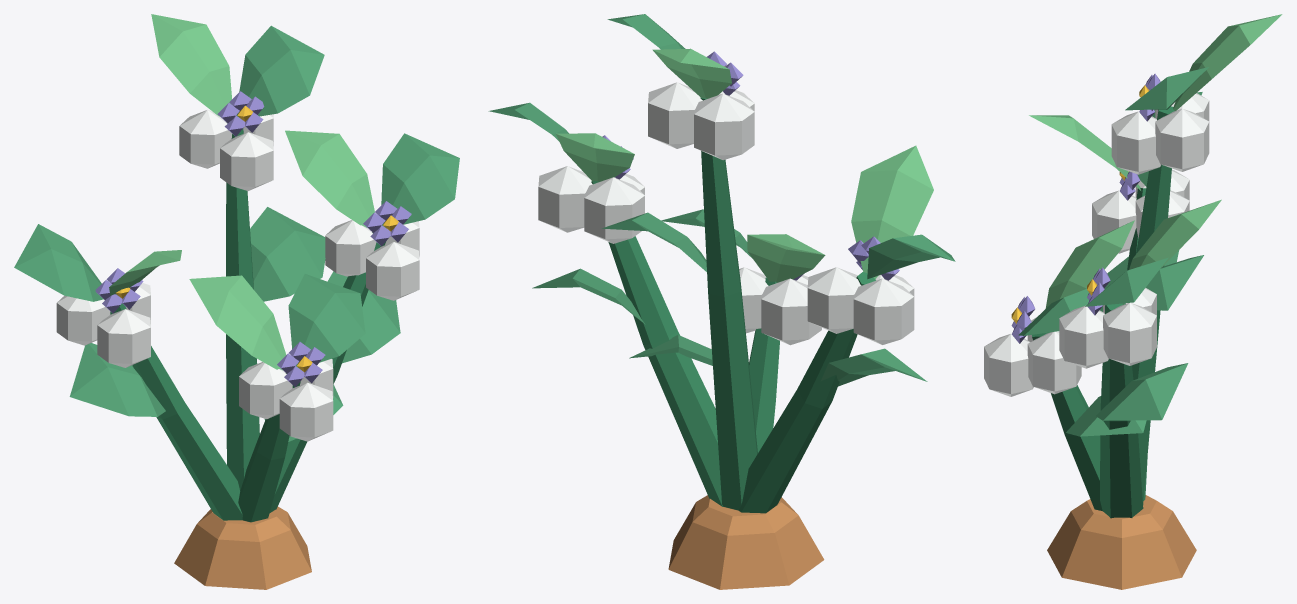
File: 23-snowberry.glb
The picture shows the model from 3 angles, left to right: view 1: azimuth 30°, elevation 25°; view 2: azimuth 150°, elevation 25°; view 3: azimuth 270°, elevation 25°; orthographic projection. The views are drawn at different scales.
Visible parts, largest first — view 1: 23-snowberry_Body; view 2: 23-snowberry_Body; view 3: 23-snowberry_Body.
Part boxes in pixels (x1,y1,x2,y2): 23-snowberry_Body: (14,14,459,589); 23-snowberry_Body: (488,14,955,589); 23-snowberry_Body: (984,14,1282,589).
Size of the model in its own units: 0.4612 by 0.5096 by 0.2588.
1 material, 1 textured.
